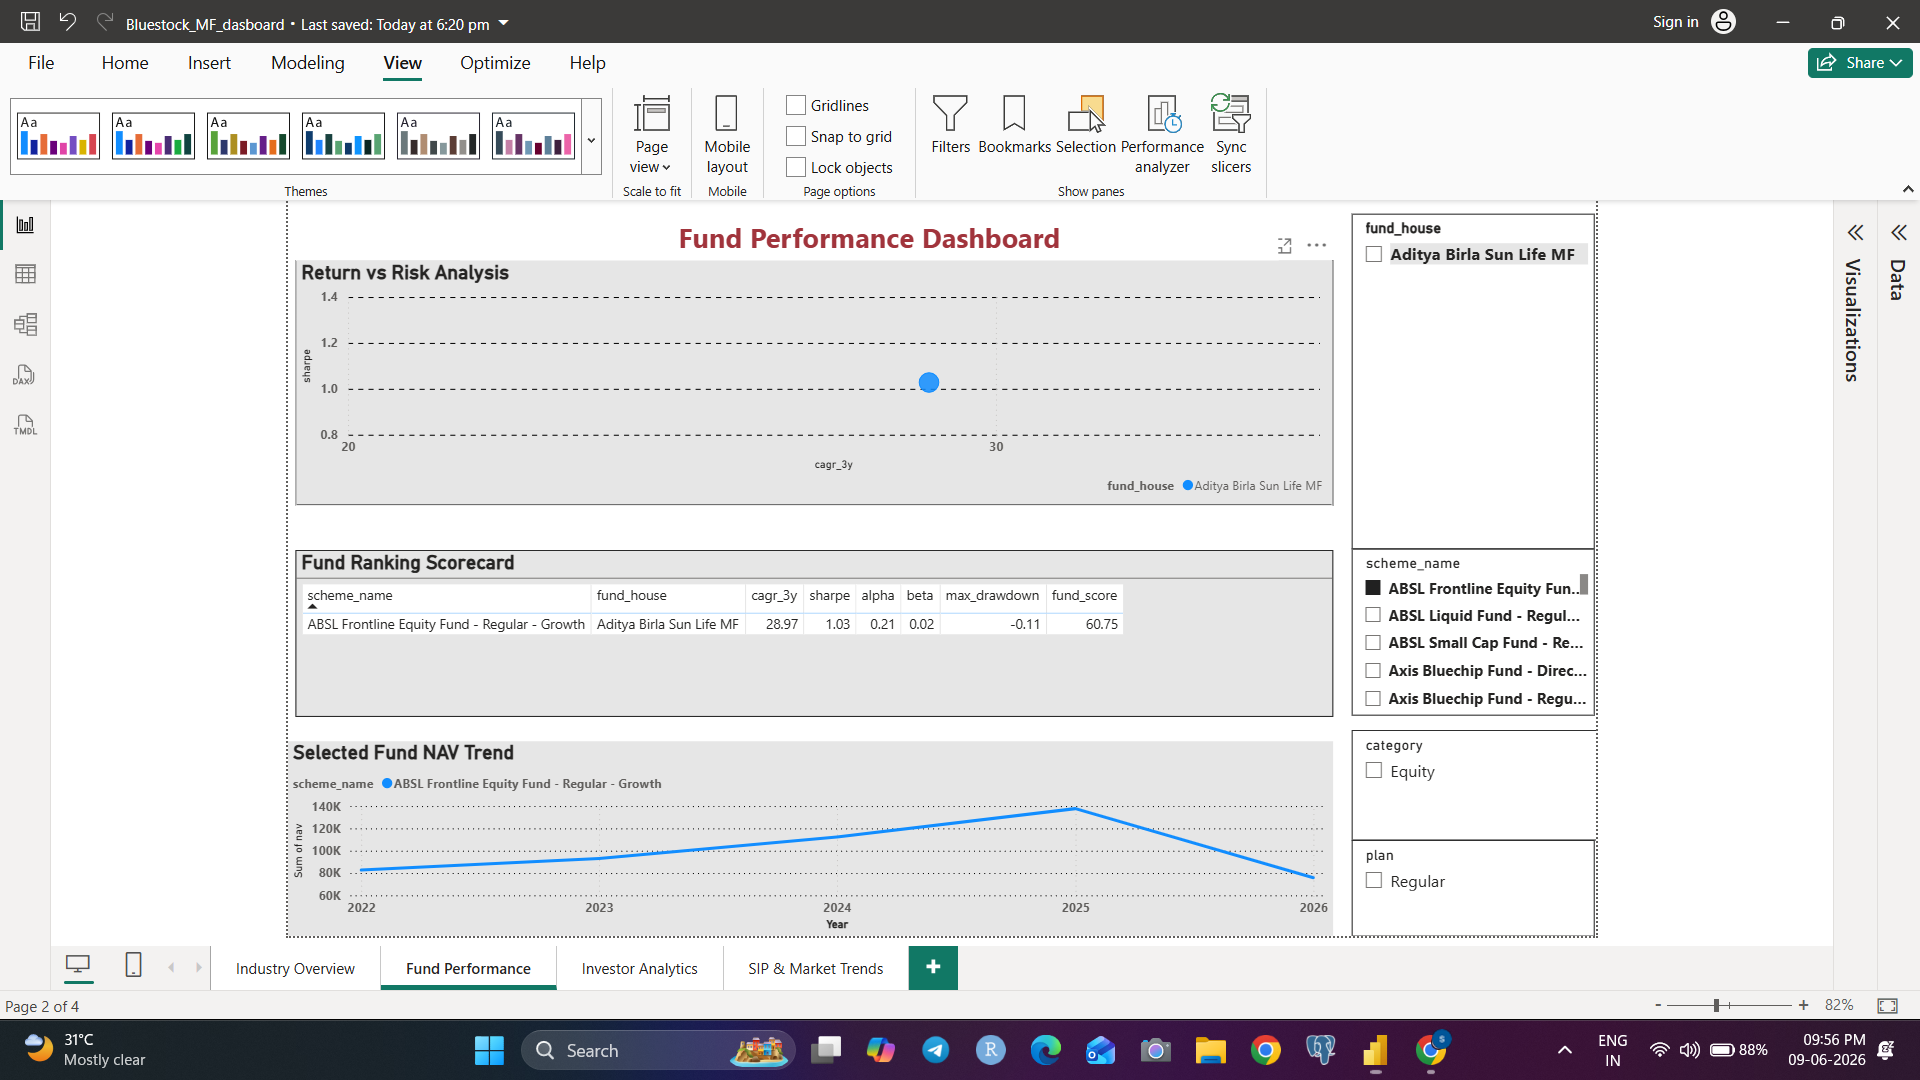

What the dashboard file says about the page in this screenshot:
{"tool":"powerbi","page":{"name":"Fund Performance","canvas":[1280,720],"ordinal":1},"visuals":[{"type":"scatterChart","title":"Return vs Risk Analysis","fields":{"X":["fund_scorecard.cagr_3y"],"Y":["fund_scorecard.sharpe"],"Series":["fund_master_clean.fund_house"],"Size":["Sum(fund_scorecard.fund_score)"]},"box":[6.9,59,1015.4,240.1],"z":0},{"type":"textbox","box":[168.8,13.7,800,45.3],"z":1000},{"type":"lineChart","title":"Selected Fund NAV Trend","fields":{"Category":["nav_history_clean.date.Variation.Date Hierarchy.Year"],"Y":["Sum(nav_history_clean.nav)"],"Series":["fund_master_clean.scheme_name"]},"box":[0,529.7,1022.3,190.7],"z":2000},{"type":"slicer","fields":{"Values":["fund_master_clean.fund_house"]},"box":[1040.6,13.5,237.2,327.7],"z":3000},{"type":"slicer","fields":{"Values":["fund_master_clean.category"]},"box":[1040.6,518.5,239.7,107.6],"z":4000},{"type":"slicer","fields":{"Values":["fund_master_clean.plan"]},"box":[1040.6,626.1,237.2,94.2],"z":5000},{"type":"slicer","fields":{"Values":["fund_master_clean.scheme_name"]},"box":[1040.1,341.7,237.4,163.3],"z":6000},{"type":"tableEx","title":"Fund Ranking Scorecard","fields":{"Values":["fund_master_clean.scheme_name","fund_master_clean.fund_house","fund_scorecard.cagr_3y","fund_scorecard.sharpe","fund_scorecard.alpha","fund_scorecard.beta","fund_scorecard.max_drawdown","fund_scorecard.fund_score"]},"box":[7,342,1015,163],"z":6001}]}

Visuals, with their boxes on the page's 1280x720 design canvas (x1, y1, x2, y2). These are canvas units, not pixel positions in the 1920x1080 screenshot, which may show the page scaled, cropped or inside an application window:
"Return vs Risk Analysis" scatterChart: bbox=(7, 59, 1022, 299)
textbox: bbox=(169, 14, 969, 59)
"Selected Fund NAV Trend" lineChart: bbox=(0, 530, 1022, 720)
slicer - fund_master_clean.fund_house: bbox=(1041, 14, 1278, 341)
slicer - fund_master_clean.category: bbox=(1041, 518, 1280, 626)
slicer - fund_master_clean.plan: bbox=(1041, 626, 1278, 720)
slicer - fund_master_clean.scheme_name: bbox=(1040, 342, 1278, 505)
"Fund Ranking Scorecard" tableEx: bbox=(7, 342, 1022, 505)
